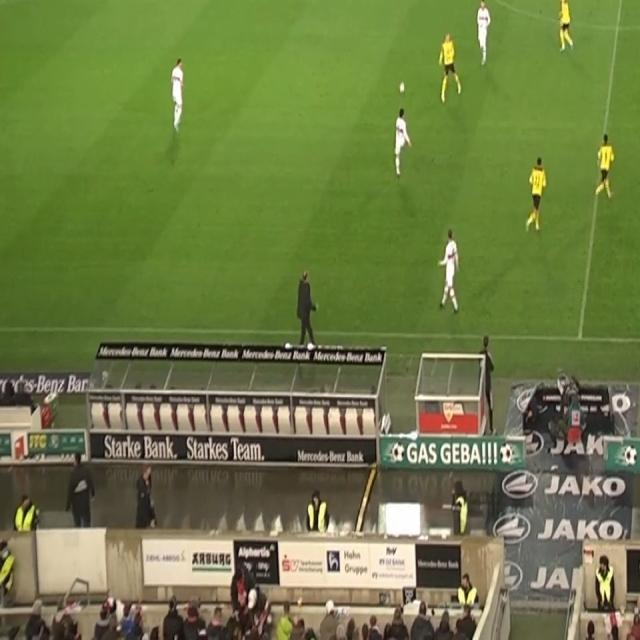ball: (399, 80, 405, 94)
